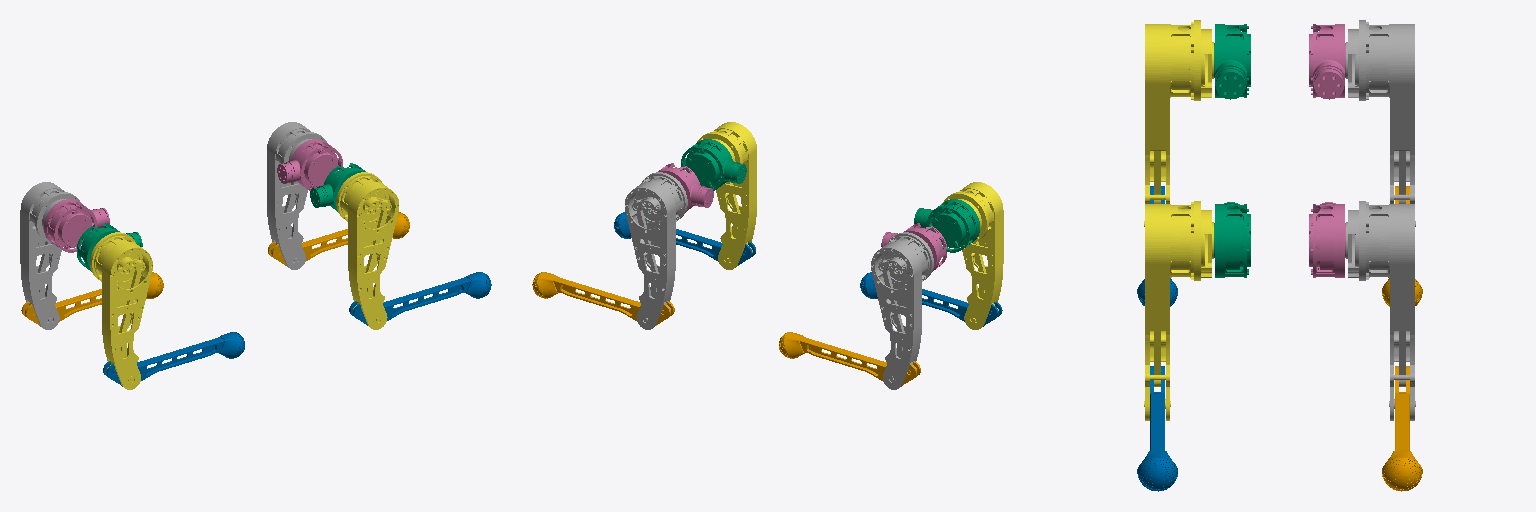
The robot description file, URDF, robot "rs02_quadruped":
<?xml version="1.0" ?>
<robot name="rs02_quadruped">
  <link name="base">
    <inertial>
      <origin xyz="-4.26417e-08 -7.92786e-13 -0.00309981" rpy="0 0 0"/>
      <mass value="4.29374"/>
      <inertia ixx="0.0278272" ixy="-1.02345e-08" ixz="4.65854e-10" iyy="0.101054" iyz="1.41902e-14" izz="0.117866"/>
    </inertial>
    <visual>
      <origin xyz="0 0 0" rpy="0 0 0"/>
      <geometry>
        <mesh filename="meshes/base.stl"/>
      </geometry>
    </visual>
    <collision>
      <origin xyz="0 0 0" rpy="0 0 0"/>
      <geometry>
        <box size="0.311 0.23 0.13"/>
      </geometry>
    </collision>
  </link>
  <link name="payload">
    <inertial>
      <origin xyz="0 0 0" rpy="0 0 0"/>
      <mass value="5.0"/>
      <inertia ixx="0.0120417" ixy="0" ixz="0" iyy="0.0193333" iyz="0" izz="0.0260417"/>
    </inertial>
  </link>
  <joint name="payload_joint" type="fixed">
    <parent link="base"/>
    <child link="payload"/>
    <origin xyz="0 0 -0.023" rpy="0 0 0"/>
  </joint>
  <link name="FR_hip">
    <inertial>
      <origin xyz="-0.00737029 0.000700676 -0.000147577" rpy="0 0 0"/>
      <mass value="0.576874"/>
      <inertia ixx="0.000315063" ixy="-5.81416e-07" ixz="6.02714e-07" iyy="0.000674319" iyz="1.24198e-06" izz="0.000524466"/>
    </inertial>
    <visual>
      <origin xyz="0 0 0" rpy="0 0 0"/>
      <geometry>
        <mesh filename="meshes/FR_hip.stl"/>
      </geometry>
    </visual>
    <collision>
      <origin xyz="-0.01375 0.002175 0" rpy="0 0 0"/>
      <geometry>
        <box size="0.1175 0.0454 0.0899827"/>
      </geometry>
    </collision>
  </link>
  <link name="FR_thigh">
    <inertial>
      <origin xyz="-0.0028406 0.0214451 -0.0388643" rpy="0 0 0"/>
      <mass value="1.06602"/>
      <inertia ixx="0.00623131" ixy="-4.55878e-05" ixz="-0.000333148" iyy="0.0062481" iyz="-0.00087417" izz="0.0011498"/>
    </inertial>
    <visual>
      <origin xyz="0 0 0" rpy="0 0 0"/>
      <geometry>
        <mesh filename="meshes/FR_thigh.stl"/>
      </geometry>
    </visual>
    <collision>
      <origin xyz="-0.00987707 6.23089e-08 -0.14925" rpy="0 0 0"/>
      <geometry>
        <box size="0.0702459 0.031005 0.181499"/>
      </geometry>
    </collision>
  </link>
  <link name="FR_calf">
    <inertial>
      <origin xyz="0.00317169 5.23573e-06 -0.104711" rpy="0 0 0"/>
      <mass value="0.268721"/>
      <inertia ixx="0.00261613" ixy="-6.49099e-09" ixz="-7.80849e-05" iyy="0.00263787" iyz="-3.71304e-08" izz="4.95704e-05"/>
    </inertial>
    <visual>
      <origin xyz="0 0 0" rpy="0 0 0"/>
      <geometry>
        <mesh filename="meshes/FR_calf.stl"/>
      </geometry>
    </visual>
    <collision>
      <origin xyz="0.00859943 -2.44013e-06 -0.0899973" rpy="0 0 0"/>
      <geometry>
        <box size="0.0571965 0.018 0.270408"/>
      </geometry>
    </collision>
  </link>
  <link name="FR_foot">
    <inertial>
      <origin xyz="0 0 0"/>
      <mass value="1e-4"/>
      <inertia ixx="1e-9" ixy="0" ixz="0" iyy="1e-9" iyz="0" izz="1e-9"/>
    </inertial>
    <collision>
      <origin xyz="0 0 0" rpy="0 0 0"/>
      <geometry>
        <sphere radius="0.02661"/>
      </geometry>
    </collision>
  </link>
  <joint name="FR_hip_joint" type="revolute">
    <parent link="base"/>
    <child link="FR_hip"/>
    <origin xyz="0.26 -0.06 0" rpy="0 0 0"/>
    <axis xyz="1 0 0"/>
    <limit lower="-2.37365" upper="0.80285" effort="17" velocity="42.94"/>
    <dynamics damping="0.0" friction="0.0"/>
  </joint>
  <joint name="FR_thigh_joint" type="revolute">
    <parent link="FR_hip"/>
    <child link="FR_thigh"/>
    <origin xyz="0 -0.0890776 0" rpy="0 0 0"/>
    <axis xyz="0 1 0"/>
    <limit lower="-2.61799" upper="2.61799" effort="17" velocity="42.94"/>
    <dynamics damping="0.0" friction="0.0"/>
  </joint>
  <joint name="FR_calf_joint" type="revolute">
    <parent link="FR_thigh"/>
    <child link="FR_calf"/>
    <origin xyz="0 0 -0.22" rpy="0 0 0"/>
    <axis xyz="0 1 0"/>
    <limit lower="-2.39700" upper="-0.87856" effort="25.2" velocity="29.01"/>
    <dynamics damping="0.0" friction="0.0"/>
  </joint>
  <joint name="FR_foot_fixed" type="fixed">
    <parent link="FR_calf"/>
    <child link="FR_foot"/>
    <origin xyz="0 0.00000 -0.21839" rpy="0 0 0"/>
  </joint>
  <link name="FL_hip">
    <inertial>
      <origin xyz="-0.00737025 -0.000700699 -0.000147573" rpy="0 0 0"/>
      <mass value="0.576871"/>
      <inertia ixx="0.000315061" ixy="5.81541e-07" ixz="6.02607e-07" iyy="0.000674314" iyz="-1.24194e-06" izz="0.000524462"/>
    </inertial>
    <visual>
      <origin xyz="0 0 0" rpy="0 0 0"/>
      <geometry>
        <mesh filename="meshes/FL_hip.stl"/>
      </geometry>
    </visual>
    <collision>
      <origin xyz="-0.01375 -0.002175 0" rpy="0 0 0"/>
      <geometry>
        <box size="0.1175 0.0454 0.0899827"/>
      </geometry>
    </collision>
  </link>
  <link name="FL_thigh">
    <inertial>
      <origin xyz="-0.00284061 -0.0214464 -0.0388644" rpy="0 0 0"/>
      <mass value="1.06602"/>
      <inertia ixx="0.00623131" ixy="4.55875e-05" ixz="-0.000333147" iyy="0.0062481" iyz="0.000874169" izz="0.0011498"/>
    </inertial>
    <visual>
      <origin xyz="0 0 0" rpy="0 0 0"/>
      <geometry>
        <mesh filename="meshes/FL_thigh.stl"/>
      </geometry>
    </visual>
    <collision>
      <origin xyz="-0.00987707 -1.38906e-06 -0.14925" rpy="0 0 0"/>
      <geometry>
        <box size="0.0702459 0.031005 0.181499"/>
      </geometry>
    </collision>
  </link>
  <link name="FL_calf">
    <inertial>
      <origin xyz="0.0031715 -6.63975e-06 -0.104711" rpy="0 0 0"/>
      <mass value="0.268727"/>
      <inertia ixx="0.00261618" ixy="5.55979e-09" ixz="-7.80917e-05" iyy="0.00263792" iyz="3.46147e-08" izz="4.95717e-05"/>
    </inertial>
    <visual>
      <origin xyz="0 0 0" rpy="0 0 0"/>
      <geometry>
        <mesh filename="meshes/FL_calf.stl"/>
      </geometry>
    </visual>
    <collision>
      <origin xyz="0.00859946 1.11338e-06 -0.0899973" rpy="0 0 0"/>
      <geometry>
        <box size="0.0571965 0.018 0.270408"/>
      </geometry>
    </collision>
  </link>
  <link name="FL_foot">
    <inertial>
      <origin xyz="0 0 0"/>
      <mass value="1e-4"/>
      <inertia ixx="1e-9" ixy="0" ixz="0" iyy="1e-9" iyz="0" izz="1e-9"/>
    </inertial>
    <collision>
      <origin xyz="0 0 0" rpy="0 0 0"/>
      <geometry>
        <sphere radius="0.02661"/>
      </geometry>
    </collision>
  </link>
  <joint name="FL_hip_joint" type="revolute">
    <parent link="base"/>
    <child link="FL_hip"/>
    <origin xyz="0.26 0.06 0" rpy="0 0 0"/>
    <axis xyz="1 0 0"/>
    <limit lower="-0.80285" upper="2.37365" effort="17" velocity="42.94"/>
    <dynamics damping="0.0" friction="0.0"/>
  </joint>
  <joint name="FL_thigh_joint" type="revolute">
    <parent link="FL_hip"/>
    <child link="FL_thigh"/>
    <origin xyz="0 0.0890789 0" rpy="0 0 0"/>
    <axis xyz="0 1 0"/>
    <limit lower="-2.61799" upper="2.61799" effort="17" velocity="42.94"/>
    <dynamics damping="0.0" friction="0.0"/>
  </joint>
  <joint name="FL_calf_joint" type="revolute">
    <parent link="FL_thigh"/>
    <child link="FL_calf"/>
    <origin xyz="0 0 -0.22" rpy="0 0 0"/>
    <axis xyz="0 1 0"/>
    <limit lower="-2.39700" upper="-0.87856" effort="25.2" velocity="29.01"/>
    <dynamics damping="0.0" friction="0.0"/>
  </joint>
  <joint name="FL_foot_fixed" type="fixed">
    <parent link="FL_calf"/>
    <child link="FL_foot"/>
    <origin xyz="0 0.00000 -0.21839" rpy="0 0 0"/>
  </joint>
  <link name="RR_hip">
    <inertial>
      <origin xyz="0.00737041 0.000700676 -0.000147575" rpy="0 0 0"/>
      <mass value="0.576874"/>
      <inertia ixx="0.000315063" ixy="6.05007e-07" ixz="-6.21738e-07" iyy="0.000674318" iyz="1.24197e-06" izz="0.000524465"/>
    </inertial>
    <visual>
      <origin xyz="0 0 0" rpy="0 0 0"/>
      <geometry>
        <mesh filename="meshes/RR_hip.stl"/>
      </geometry>
    </visual>
    <collision>
      <origin xyz="0.01375 0.002175 0" rpy="0 0 0"/>
      <geometry>
        <box size="0.1175 0.0454 0.0899827"/>
      </geometry>
    </collision>
  </link>
  <link name="RR_thigh">
    <inertial>
      <origin xyz="-0.0028406 0.0214451 -0.0388643" rpy="0 0 0"/>
      <mass value="1.06602"/>
      <inertia ixx="0.00623131" ixy="-4.55876e-05" ixz="-0.000333148" iyy="0.0062481" iyz="-0.00087417" izz="0.0011498"/>
    </inertial>
    <visual>
      <origin xyz="0 0 0" rpy="0 0 0"/>
      <geometry>
        <mesh filename="meshes/RR_thigh.stl"/>
      </geometry>
    </visual>
    <collision>
      <origin xyz="-0.00987706 6.22776e-08 -0.14925" rpy="0 0 0"/>
      <geometry>
        <box size="0.0702458 0.031005 0.181499"/>
      </geometry>
    </collision>
  </link>
  <link name="RR_calf">
    <inertial>
      <origin xyz="0.00317169 5.23558e-06 -0.104711" rpy="0 0 0"/>
      <mass value="0.268721"/>
      <inertia ixx="0.00261613" ixy="-6.49096e-09" ixz="-7.80849e-05" iyy="0.00263787" iyz="-3.71309e-08" izz="4.95704e-05"/>
    </inertial>
    <visual>
      <origin xyz="0 0 0" rpy="0 0 0"/>
      <geometry>
        <mesh filename="meshes/RR_calf.stl"/>
      </geometry>
    </visual>
    <collision>
      <origin xyz="0.00859943 -2.44016e-06 -0.0899973" rpy="0 0 0"/>
      <geometry>
        <box size="0.0571965 0.018 0.270408"/>
      </geometry>
    </collision>
  </link>
  <link name="RR_foot">
    <inertial>
      <origin xyz="0 0 0"/>
      <mass value="1e-4"/>
      <inertia ixx="1e-9" ixy="0" ixz="0" iyy="1e-9" iyz="0" izz="1e-9"/>
    </inertial>
    <collision>
      <origin xyz="0 0 0" rpy="0 0 0"/>
      <geometry>
        <sphere radius="0.02661"/>
      </geometry>
    </collision>
  </link>
  <joint name="RR_hip_joint" type="revolute">
    <parent link="base"/>
    <child link="RR_hip"/>
    <origin xyz="-0.26 -0.06 0" rpy="0 0 0"/>
    <axis xyz="1 0 0"/>
    <limit lower="-2.37365" upper="0.80285" effort="17" velocity="42.94"/>
    <dynamics damping="0.0" friction="0.0"/>
  </joint>
  <joint name="RR_thigh_joint" type="revolute">
    <parent link="RR_hip"/>
    <child link="RR_thigh"/>
    <origin xyz="0 -0.0890776 0" rpy="0 0 0"/>
    <axis xyz="0 1 0"/>
    <limit lower="-2.61799" upper="2.61799" effort="17" velocity="42.94"/>
    <dynamics damping="0.0" friction="0.0"/>
  </joint>
  <joint name="RR_calf_joint" type="revolute">
    <parent link="RR_thigh"/>
    <child link="RR_calf"/>
    <origin xyz="0 0 -0.22" rpy="0 0 0"/>
    <axis xyz="0 1 0"/>
    <limit lower="-2.39700" upper="-0.87856" effort="25.2" velocity="29.01"/>
    <dynamics damping="0.0" friction="0.0"/>
  </joint>
  <joint name="RR_foot_fixed" type="fixed">
    <parent link="RR_calf"/>
    <child link="RR_foot"/>
    <origin xyz="0 0.00000 -0.21839" rpy="0 0 0"/>
  </joint>
  <link name="RL_hip">
    <inertial>
      <origin xyz="0.00737037 -0.000700698 -0.000147575" rpy="0 0 0"/>
      <mass value="0.576871"/>
      <inertia ixx="0.000315061" ixy="-6.05104e-07" ixz="-6.21812e-07" iyy="0.000674313" iyz="-1.24195e-06" izz="0.000524461"/>
    </inertial>
    <visual>
      <origin xyz="0 0 0" rpy="0 0 0"/>
      <geometry>
        <mesh filename="meshes/RL_hip.stl"/>
      </geometry>
    </visual>
    <collision>
      <origin xyz="0.01375 -0.002175 0" rpy="0 0 0"/>
      <geometry>
        <box size="0.1175 0.0454 0.0899827"/>
      </geometry>
    </collision>
  </link>
  <link name="RL_thigh">
    <inertial>
      <origin xyz="-0.0028406 -0.0214464 -0.0388644" rpy="0 0 0"/>
      <mass value="1.06602"/>
      <inertia ixx="0.00623131" ixy="4.55874e-05" ixz="-0.000333147" iyy="0.0062481" iyz="0.000874169" izz="0.0011498"/>
    </inertial>
    <visual>
      <origin xyz="0 0 0" rpy="0 0 0"/>
      <geometry>
        <mesh filename="meshes/RL_thigh.stl"/>
      </geometry>
    </visual>
    <collision>
      <origin xyz="-0.00987706 -1.38905e-06 -0.14925" rpy="0 0 0"/>
      <geometry>
        <box size="0.0702458 0.031005 0.181499"/>
      </geometry>
    </collision>
  </link>
  <link name="RL_calf">
    <inertial>
      <origin xyz="0.00317149 -6.63961e-06 -0.104711" rpy="0 0 0"/>
      <mass value="0.268727"/>
      <inertia ixx="0.00261618" ixy="5.55974e-09" ixz="-7.80917e-05" iyy="0.00263792" iyz="3.46154e-08" izz="4.95717e-05"/>
    </inertial>
    <visual>
      <origin xyz="0 0 0" rpy="0 0 0"/>
      <geometry>
        <mesh filename="meshes/RL_calf.stl"/>
      </geometry>
    </visual>
    <collision>
      <origin xyz="0.00859946 1.11339e-06 -0.0899973" rpy="0 0 0"/>
      <geometry>
        <box size="0.0571965 0.018 0.270408"/>
      </geometry>
    </collision>
  </link>
  <link name="RL_foot">
    <inertial>
      <origin xyz="0 0 0"/>
      <mass value="1e-4"/>
      <inertia ixx="1e-9" ixy="0" ixz="0" iyy="1e-9" iyz="0" izz="1e-9"/>
    </inertial>
    <collision>
      <origin xyz="0 0 0" rpy="0 0 0"/>
      <geometry>
        <sphere radius="0.02661"/>
      </geometry>
    </collision>
  </link>
  <joint name="RL_hip_joint" type="revolute">
    <parent link="base"/>
    <child link="RL_hip"/>
    <origin xyz="-0.26 0.06 0" rpy="0 0 0"/>
    <axis xyz="1 0 0"/>
    <limit lower="-0.80285" upper="2.37365" effort="17" velocity="42.94"/>
    <dynamics damping="0.0" friction="0.0"/>
  </joint>
  <joint name="RL_thigh_joint" type="revolute">
    <parent link="RL_hip"/>
    <child link="RL_thigh"/>
    <origin xyz="0 0.0890789 0" rpy="0 0 0"/>
    <axis xyz="0 1 0"/>
    <limit lower="-2.61799" upper="2.61799" effort="17" velocity="42.94"/>
    <dynamics damping="0.0" friction="0.0"/>
  </joint>
  <joint name="RL_calf_joint" type="revolute">
    <parent link="RL_thigh"/>
    <child link="RL_calf"/>
    <origin xyz="0 0 -0.22" rpy="0 0 0"/>
    <axis xyz="0 1 0"/>
    <limit lower="-2.39700" upper="-0.87856" effort="25.2" velocity="29.01"/>
    <dynamics damping="0.0" friction="0.0"/>
  </joint>
  <joint name="RL_foot_fixed" type="fixed">
    <parent link="RL_calf"/>
    <child link="RL_foot"/>
    <origin xyz="0 0.00000 -0.21839" rpy="0 0 0"/>
  </joint>
</robot>

--- Facts derived from the render (not from the file) ---
Views: 3 orthographic renders of the robot side by side, from view 1: azimuth 30°, elevation 25°; view 2: azimuth 150°, elevation 25°; view 3: azimuth 270°, elevation 25°.
Robot: rs02_quadruped — 18 links, 17 joints (12 revolute, 5 fixed); root link base; default pose: joints at zero except 4 at the middle of their limits (FR_calf_joint = -1.64, FL_calf_joint = -1.64, RR_calf_joint = -1.64, RL_calf_joint = -1.64).
Visible links, largest first — view 1: FR_thigh, RR_thigh, RL_thigh, FL_thigh, RL_hip, FL_hip, RR_calf, FR_calf, RL_calf, FL_calf, FR_hip, RR_hip; view 2: FL_thigh, RL_thigh, RR_thigh, FR_thigh, RR_hip, FR_hip, RL_calf, FL_calf, RR_calf, FR_calf, FL_hip, RL_hip; view 3: FR_thigh, FL_thigh, RR_thigh, RL_thigh, FR_hip, FL_hip, RR_hip, RL_hip, FR_calf, FL_calf.
Link boxes in pixels (left/top/right/bottom): FR_thigh: left=336, top=172, right=398, bottom=329; RR_thigh: left=90, top=232, right=152, bottom=389; RL_thigh: left=20, top=182, right=81, bottom=329; FL_thigh: left=267, top=122, right=326, bottom=269; RL_hip: left=44, top=199, right=109, bottom=252; FL_hip: left=277, top=139, right=342, bottom=190; RR_calf: left=103, top=332, right=244, bottom=386; FR_calf: left=349, top=272, right=491, bottom=325; RL_calf: left=21, top=272, right=163, bottom=326; FL_calf: left=268, top=212, right=409, bottom=265; FR_hip: left=310, top=163, right=365, bottom=211; RR_hip: left=77, top=223, right=142, bottom=271; FL_thigh: left=625, top=172, right=687, bottom=329; RL_thigh: left=871, top=232, right=933, bottom=389; RR_thigh: left=942, top=182, right=1003, bottom=329; FR_thigh: left=697, top=122, right=756, bottom=269; RR_hip: left=914, top=199, right=979, bottom=252; FR_hip: left=681, top=139, right=746, bottom=190; RL_calf: left=779, top=332, right=920, bottom=386; FL_calf: left=532, top=272, right=674, bottom=325; RR_calf: left=860, top=272, right=1002, bottom=326; FR_calf: left=614, top=212, right=755, bottom=265; FL_hip: left=658, top=163, right=713, bottom=211; RL_hip: left=881, top=223, right=946, bottom=271; FR_thigh: left=1144, top=201, right=1213, bottom=420; FL_thigh: left=1346, top=201, right=1415, bottom=420; RR_thigh: left=1144, top=20, right=1213, bottom=226; RL_thigh: left=1346, top=20, right=1415, bottom=226; FR_hip: left=1214, top=202, right=1250, bottom=277; FL_hip: left=1309, top=202, right=1345, bottom=277; RR_hip: left=1214, top=24, right=1250, bottom=99; RL_hip: left=1309, top=24, right=1345, bottom=99; FR_calf: left=1137, top=366, right=1177, bottom=491; FL_calf: left=1382, top=366, right=1422, bottom=491.
Bounding box of the posed robot: 0.8136 × 0.3481 × 0.289 m (x, y, z).
12 mesh visuals loaded from 13 distinct referenced files (12 binary STL); not drawn: 1 (reference not matched to a file when rendering).
